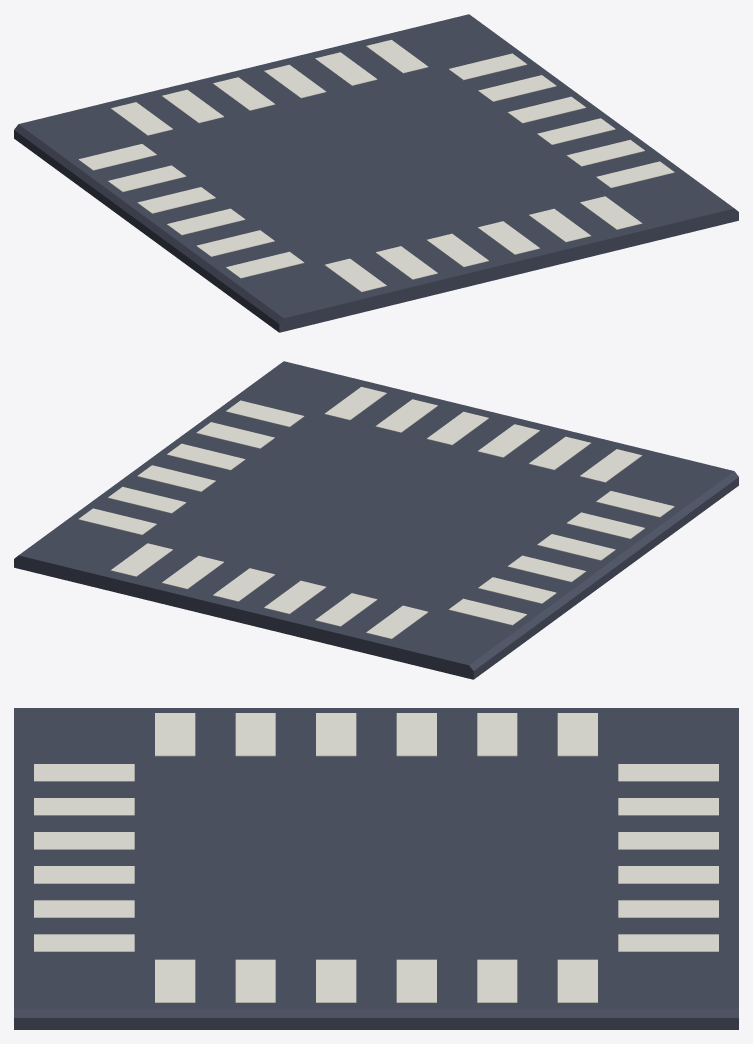
The model's file is RoadIntersection.fbx.
3 renders of one model, top to bottom at view 1: azimuth 30°, elevation 25°; view 2: azimuth 150°, elevation 25°; view 3: azimuth 270°, elevation 25°, orthographic. The views are drawn at different scales.
Visible parts, largest first — view 1: RoadIntersection_Asphalt, RoadIntersection_LineWhite; view 2: RoadIntersection_Asphalt, RoadIntersection_LineWhite; view 3: RoadIntersection_Asphalt, RoadIntersection_LineWhite.
Part boxes in pixels (bbox=[...]): RoadIntersection_Asphalt: bbox=[14, 14, 738, 332]; RoadIntersection_LineWhite: bbox=[78, 40, 674, 291]; RoadIntersection_Asphalt: bbox=[14, 361, 738, 679]; RoadIntersection_LineWhite: bbox=[78, 387, 674, 638]; RoadIntersection_Asphalt: bbox=[14, 708, 738, 1029]; RoadIntersection_LineWhite: bbox=[34, 713, 718, 1002].
Bounding box in the file's own units: 36 × 1.04 × 36.
